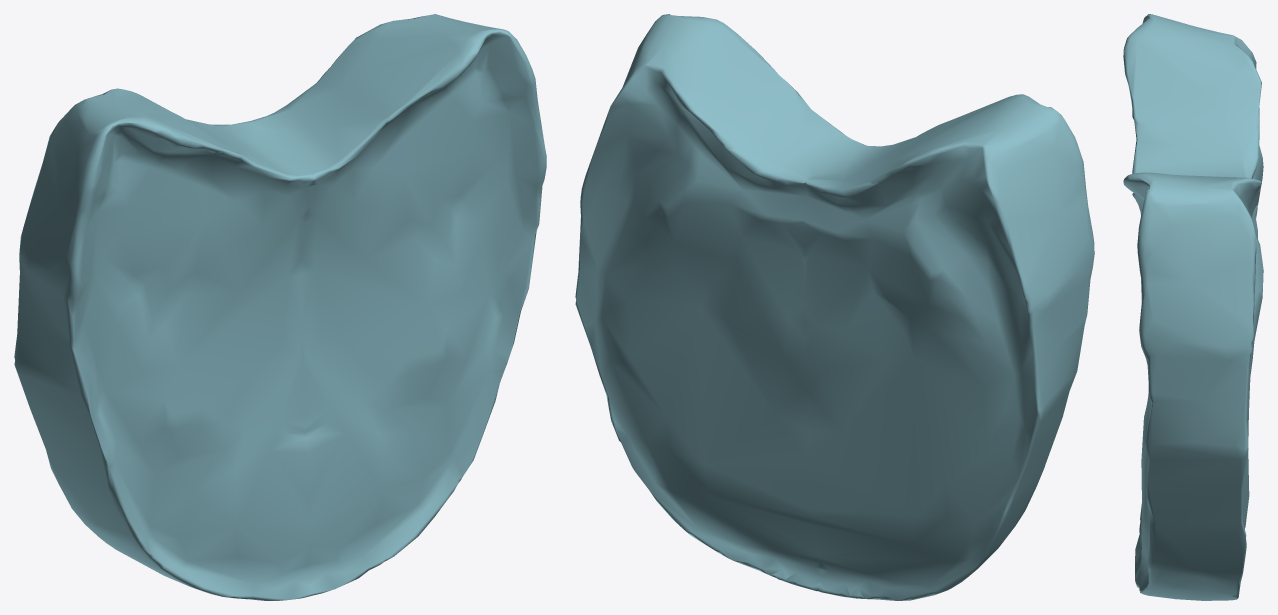
The picture shows the model from 3 angles, left to right: view 1: azimuth 30°, elevation 25°; view 2: azimuth 150°, elevation 25°; view 3: azimuth 270°, elevation 25°; orthographic projection. The views are drawn at different scales.
Visible parts, largest first — view 1: 胸6—胸7椎间盘; view 2: 胸6—胸7椎间盘; view 3: 胸6—胸7椎间盘.
Boxes of the visible parts, x1,y1,x2,y2 form: 胸6—胸7椎间盘: [14, 14, 546, 600]; 胸6—胸7椎间盘: [575, 14, 1094, 600]; 胸6—胸7椎间盘: [1123, 14, 1263, 600].
Bounding box in the file's own units: 0.05 × 0.0518 × 0.0139.
